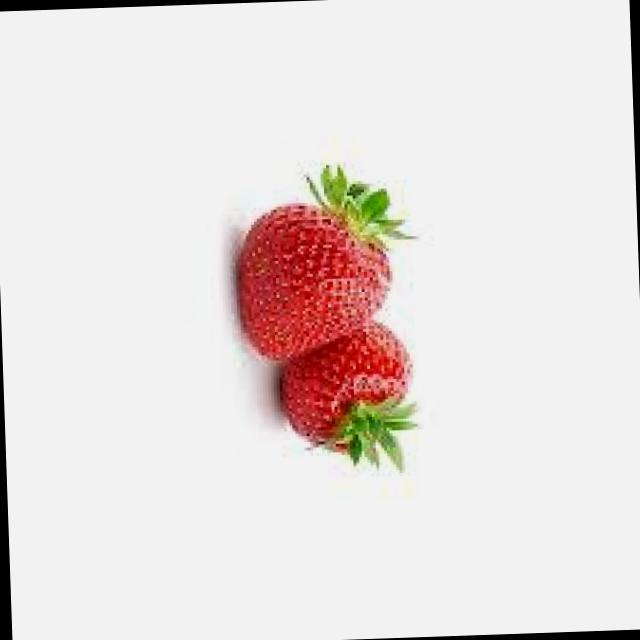tofu: (212, 170, 420, 365), (268, 310, 428, 467)
